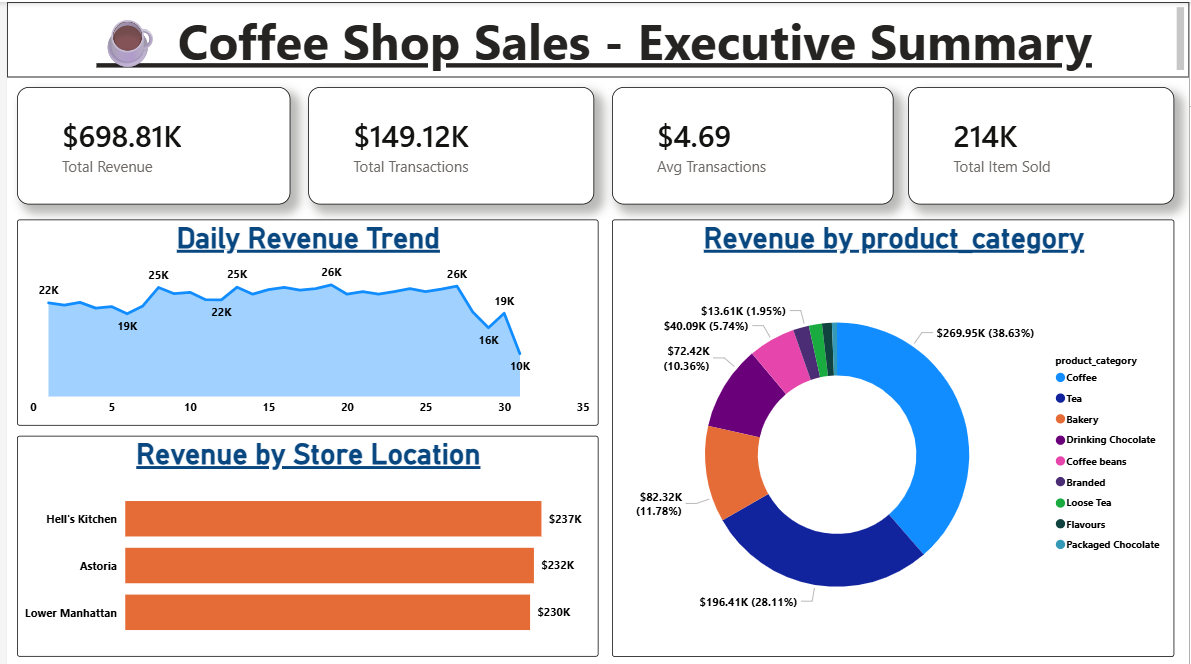

This screenshot's page, from the dashboard's own definition file:
{"tool":"powerbi","page":{"name":"EXECUTIVE SUMMARY","canvas":[1280,720],"ordinal":0},"visuals":[{"type":"cardVisual","fields":{"Data":["projects coffee_shop_sales.Total Revenue"]},"box":[10.8,92,296.4,127.2],"z":0},{"type":"textbox","box":[0,0,1280.3,81.2],"z":1000},{"type":"cardVisual","fields":{"Data":["projects coffee_shop_sales.Total Transactions"]},"box":[326.2,92,309.9,127.2],"z":2000},{"type":"cardVisual","fields":{"Data":["projects coffee_shop_sales.Avg Transactions"]},"box":[655,92,304.5,127.2],"z":3000},{"type":"cardVisual","fields":{"Data":["projects coffee_shop_sales.Total Item Sold"]},"box":[975.8,92,288.3,127.2],"z":4000},{"type":"lineChart","title":"Daily Revenue Trend","fields":{"Y":["Sum(projects daily_summary.Total_revenue)"],"Category":["projects daily_summary.transaction_date.Variation.Date Hierarchy.Day"]},"box":[10.8,235.5,629.3,223.3],"z":5000},{"type":"barChart","title":"Revenue by Store Location","fields":{"Category":["projects coffee_shop_sales.store_location"],"Y":["projects coffee_shop_sales.Total Revenue"]},"box":[10.8,469.6,629.3,239.5],"z":6000},{"type":"donutChart","title":"Revenue by product_category","fields":{"Category":["projects coffee_shop_sales.product_category"],"Y":["projects coffee_shop_sales.Total Revenue"]},"box":[655,235.5,609,473.7],"z":7000}]}

Visuals, with their boxes in screenshot pixels (x1, y1, x2, y2), scaled from the page's 1280x720 canvas onto the 1191x664 screenshot:
cardVisual - projects coffee_shop_sales.Total Revenue: 10,85,286,202
textbox: 0,0,1190,75
cardVisual - projects coffee_shop_sales.Total Transactions: 304,85,592,202
cardVisual - projects coffee_shop_sales.Avg Transactions: 609,85,893,202
cardVisual - projects coffee_shop_sales.Total Item Sold: 908,85,1176,202
"Daily Revenue Trend" lineChart: 10,217,596,423
"Revenue by Store Location" barChart: 10,433,596,654
"Revenue by product_category" donutChart: 609,217,1176,654
